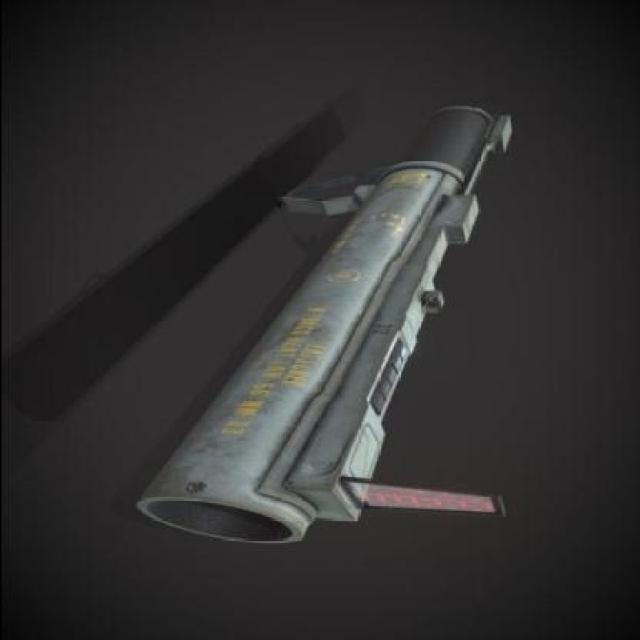weapon: (134, 102, 514, 545)
